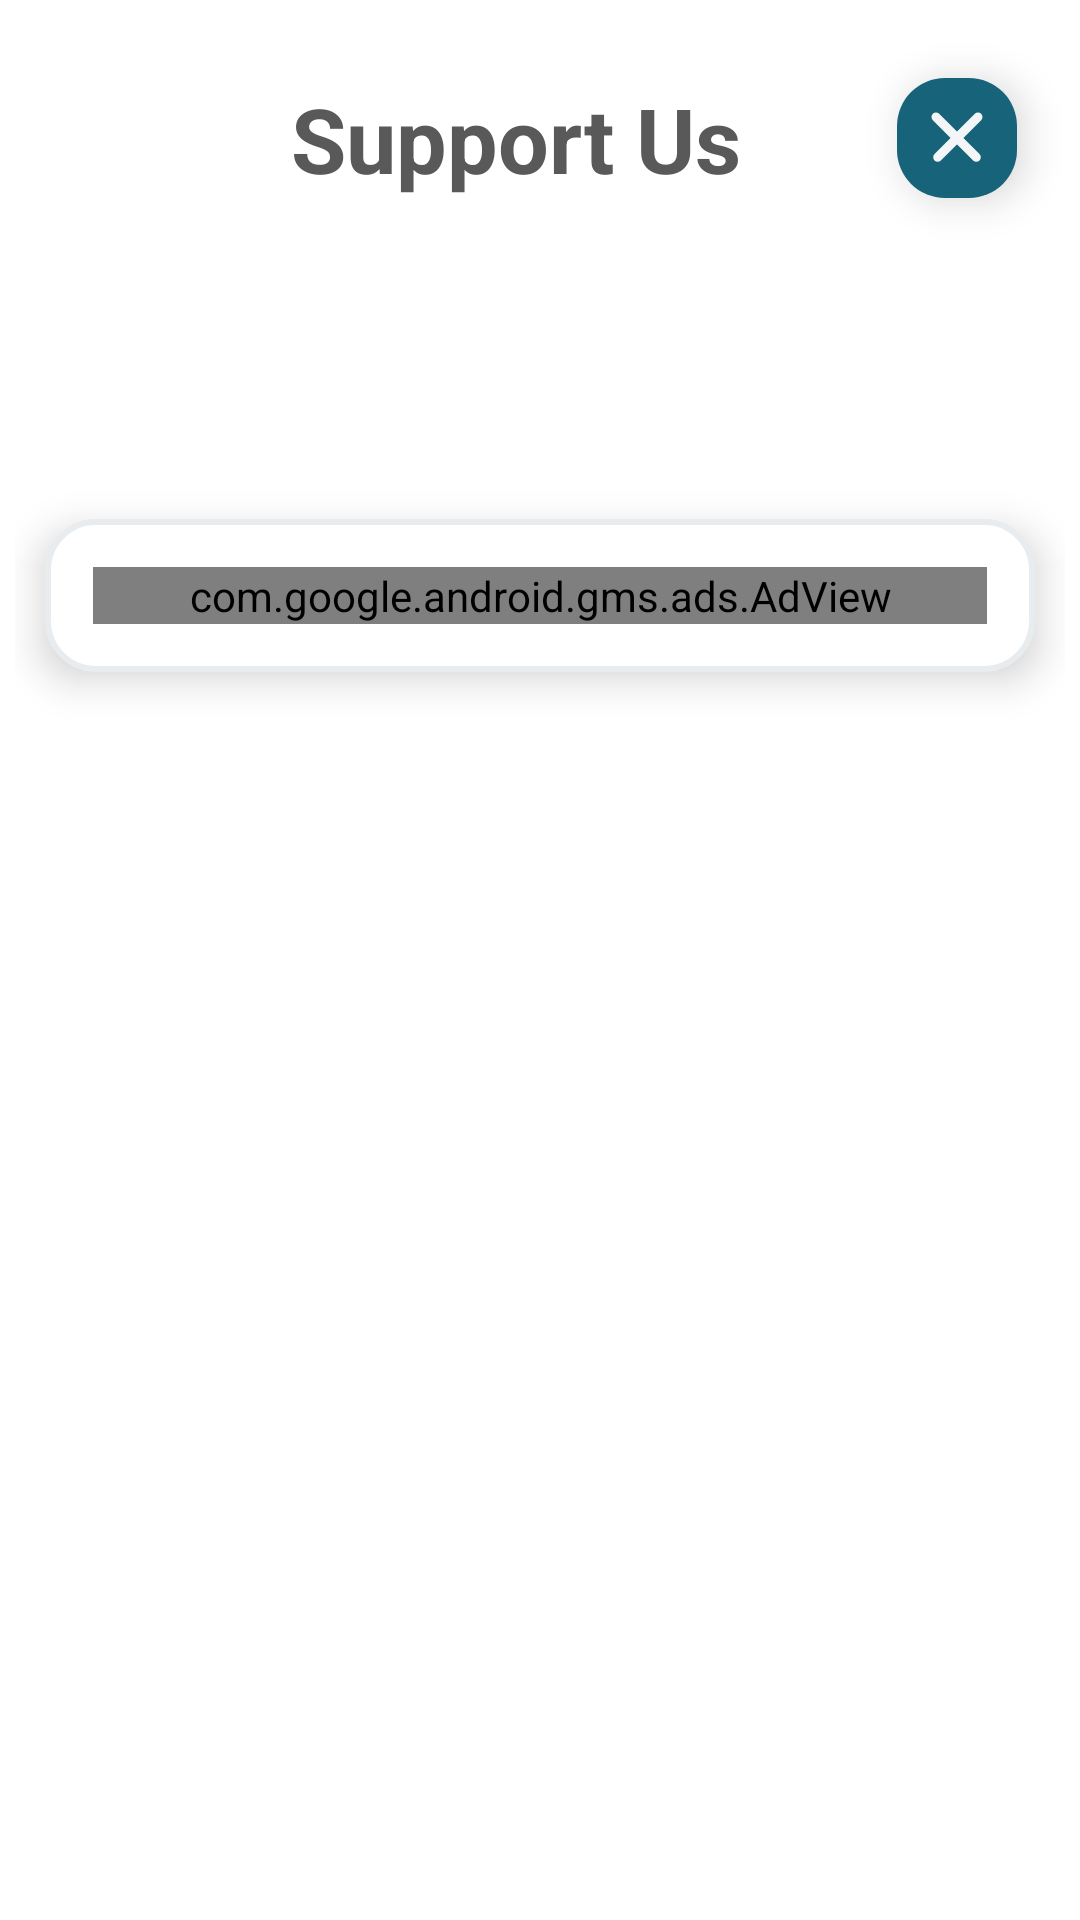

Screen size 1080px×1920px. Icon name, then its center in pixels as (x,y):
windows cross: (957,138)
